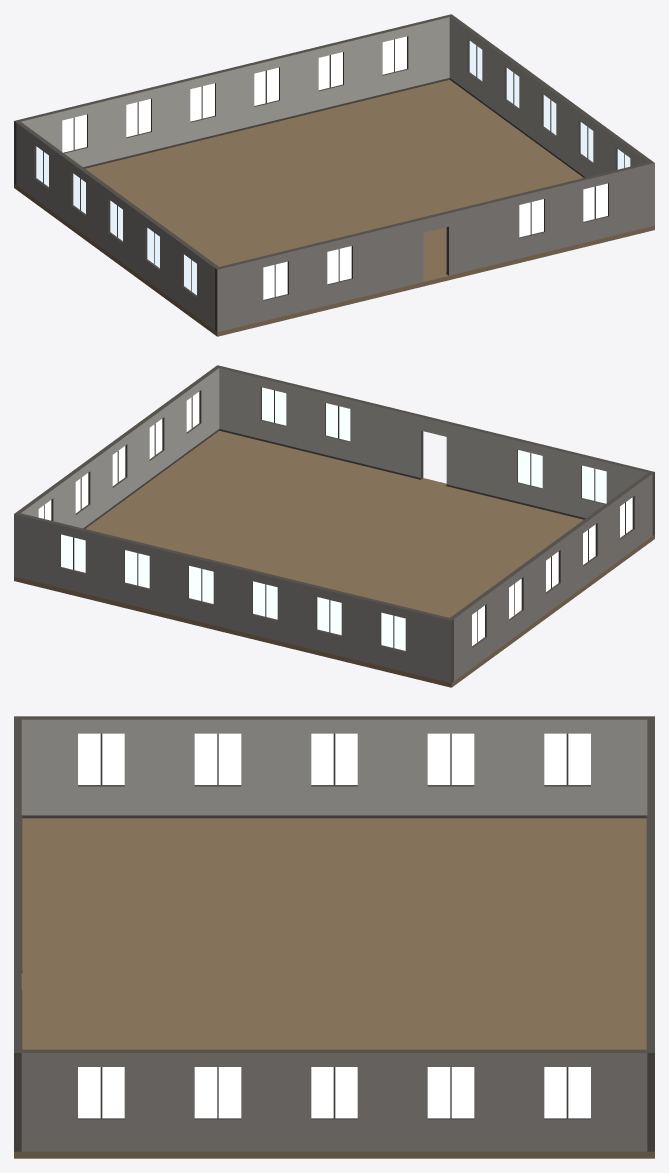
File: Apartment_Large_Shell.glb
3 views of the same model, one above another, from view 1: azimuth 30°, elevation 25°; view 2: azimuth 150°, elevation 25°; view 3: azimuth 270°, elevation 25° (orthographic). The views are drawn at different scales.
Visible parts, largest first — view 1: Apartment_Large_Shell; view 2: Apartment_Large_Shell; view 3: Apartment_Large_Shell.
Boxes of the visible parts, bbox=[...] form: Apartment_Large_Shell: bbox=[14, 14, 654, 336]; Apartment_Large_Shell: bbox=[14, 365, 654, 687]; Apartment_Large_Shell: bbox=[14, 716, 654, 1158].
Size of what is drawn, in the model's own units: 20.5 by 3 by 16.5.
